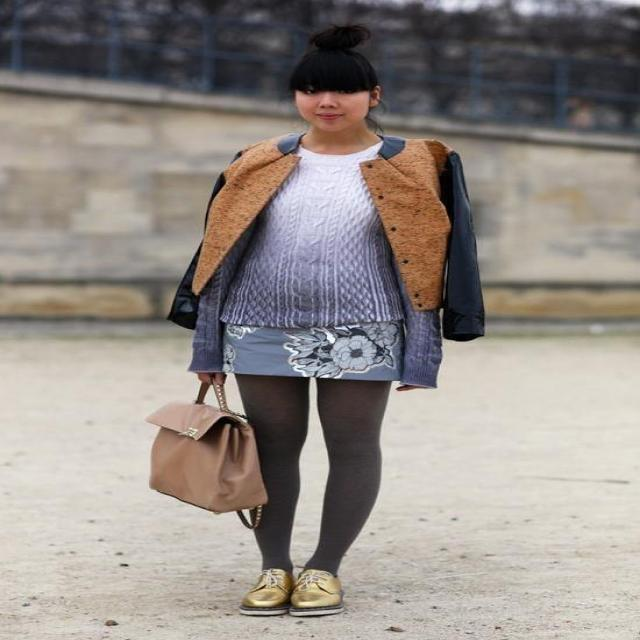skirt: (205, 292, 408, 382)
sweater: (174, 135, 483, 389)
